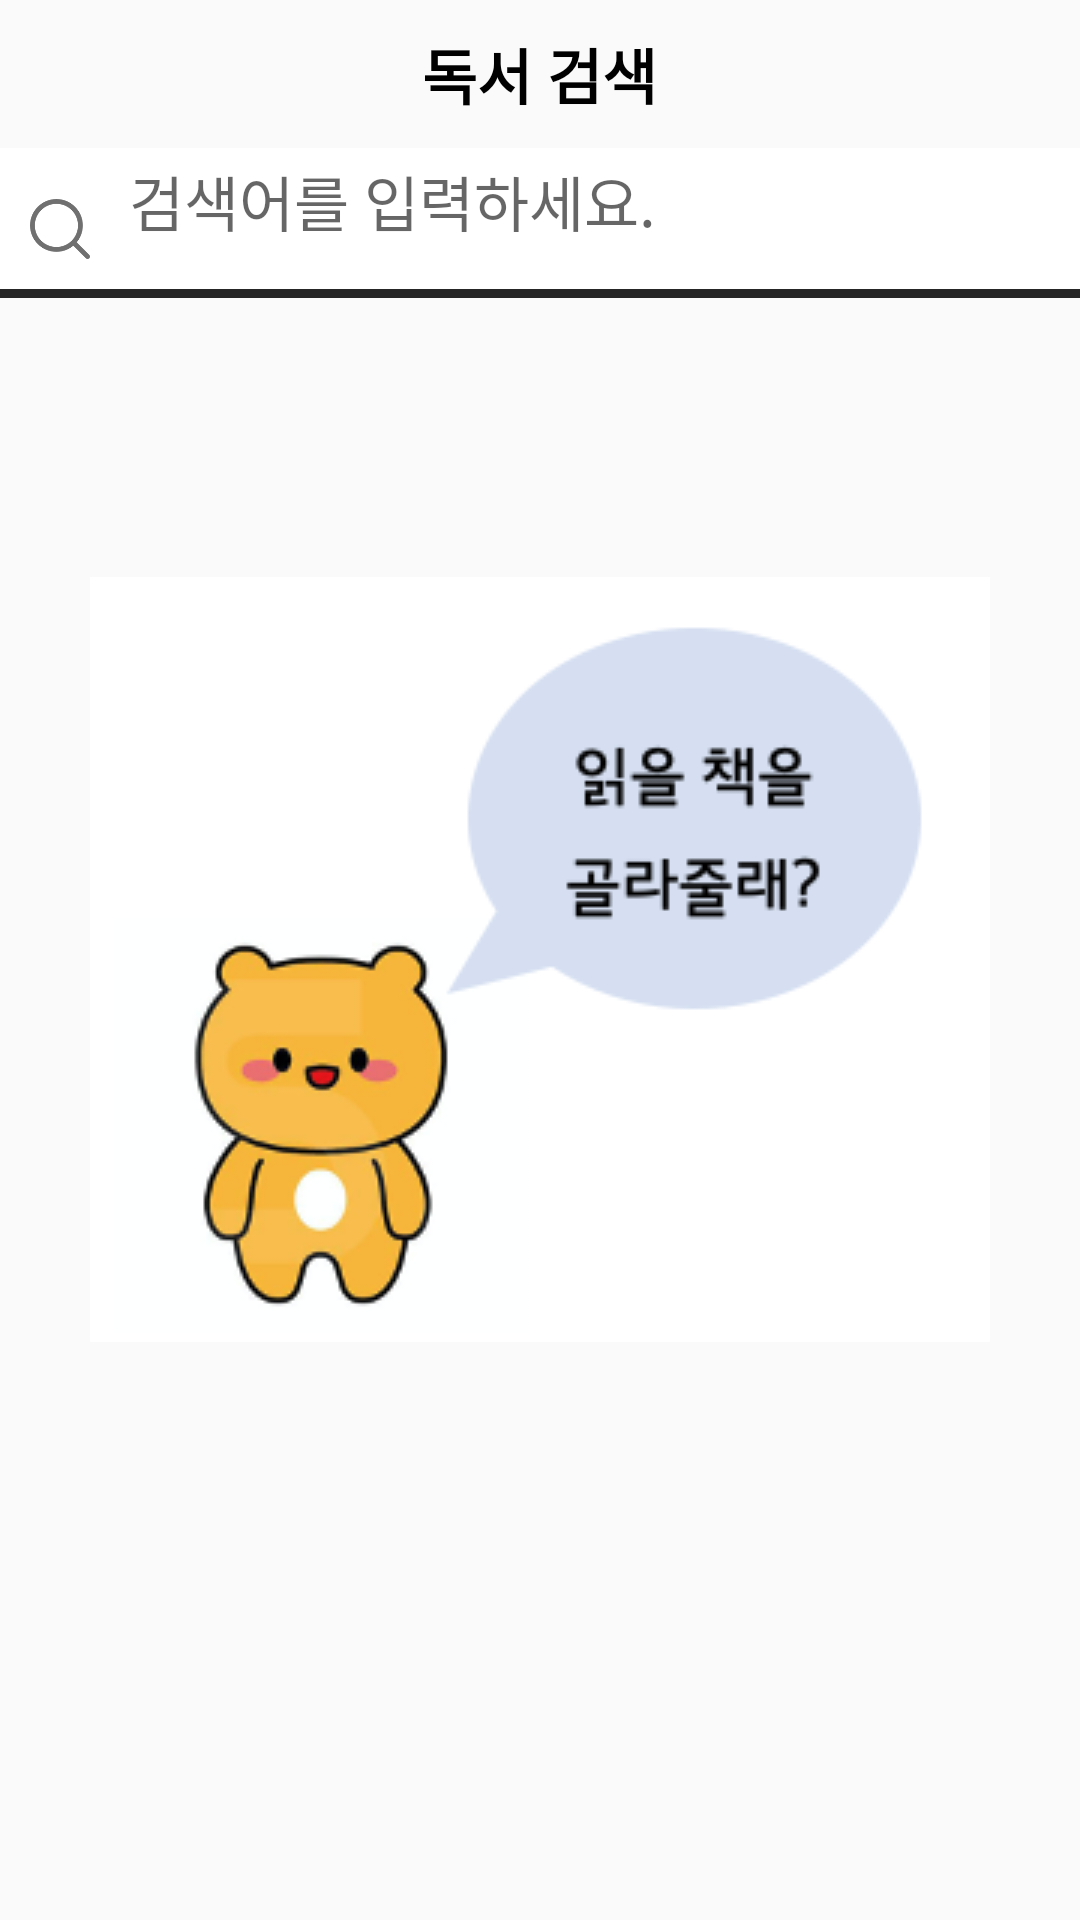

Icon bounding boxes for this 1080*1920 phone screenshot, format (x1, y1, x2, y2):
search: (30, 199, 90, 259)
